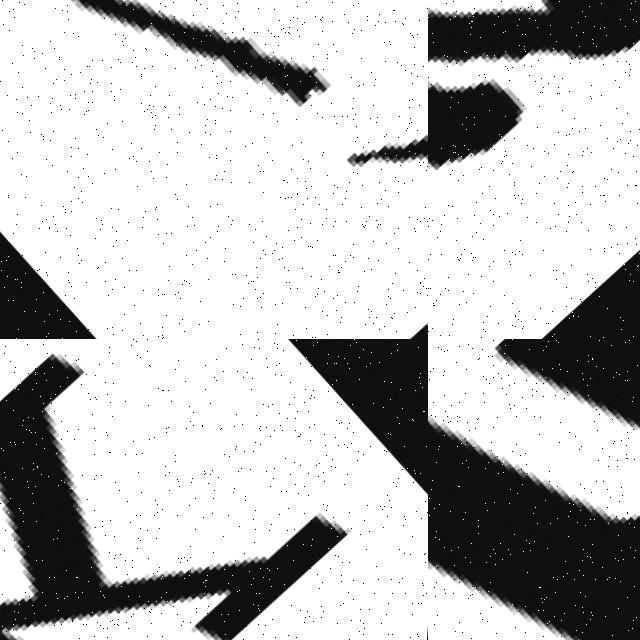H: (428, 418, 640, 640)
I: (0, 0, 428, 318)
K: (0, 339, 428, 640)
W: (428, 0, 594, 306)
